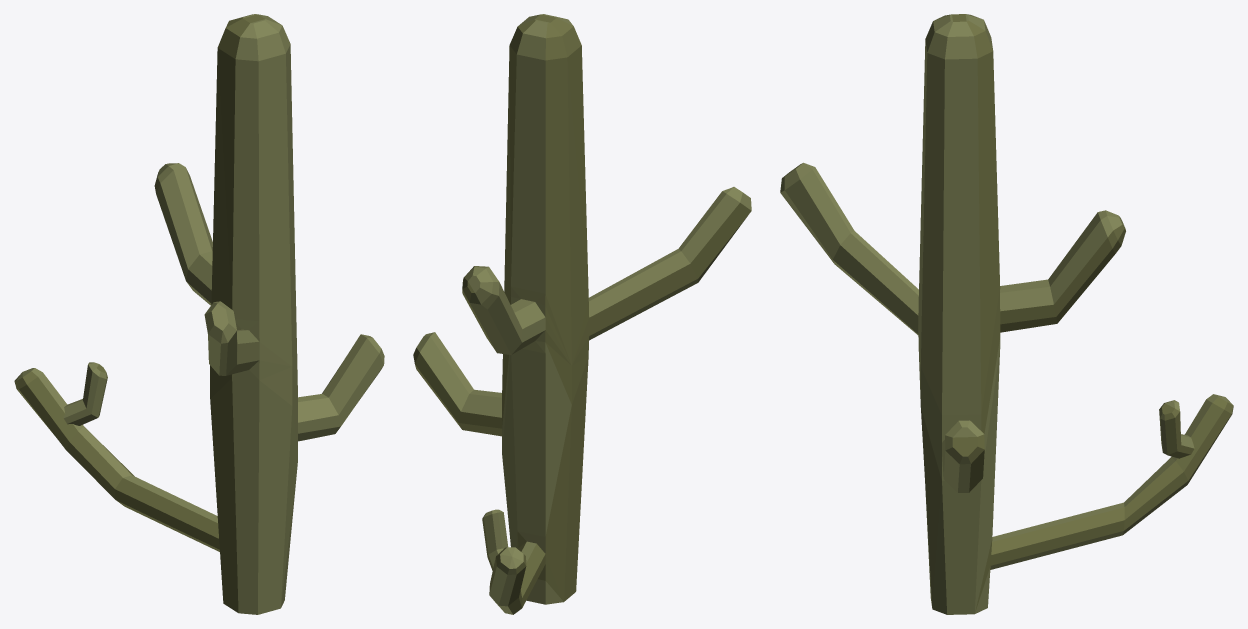
The model's file is cactus_03.fbx.
The picture shows the model from 3 angles, left to right: view 1: azimuth 30°, elevation 25°; view 2: azimuth 150°, elevation 25°; view 3: azimuth 270°, elevation 25°; orthographic projection. The views are drawn at different scales.
Parts seen in each view (by area): view 1: cactus_03; view 2: cactus_03; view 3: cactus_03.
Boxes of the visible parts, <box> form: cactus_03: <box>14,14,384,614</box>; cactus_03: <box>413,14,751,614</box>; cactus_03: <box>780,14,1233,614</box>.
Size of the model in its own units: 0.7256 by 1.1 by 1.57.
